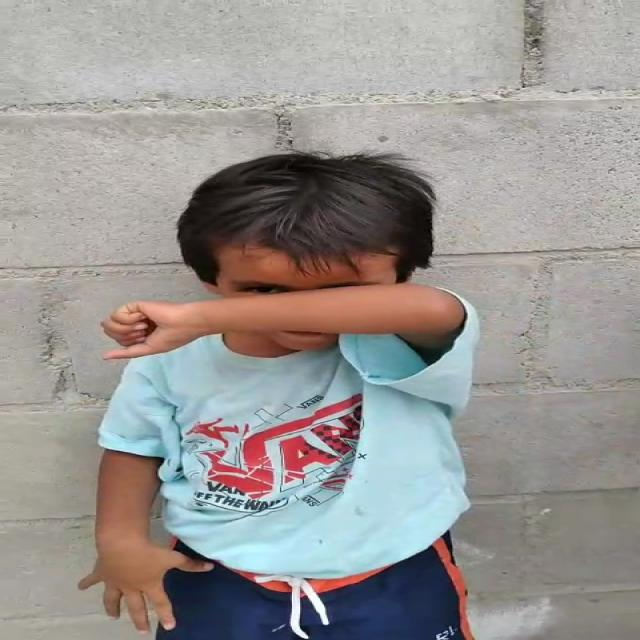7_mano_rostro: (214, 290, 475, 349)
